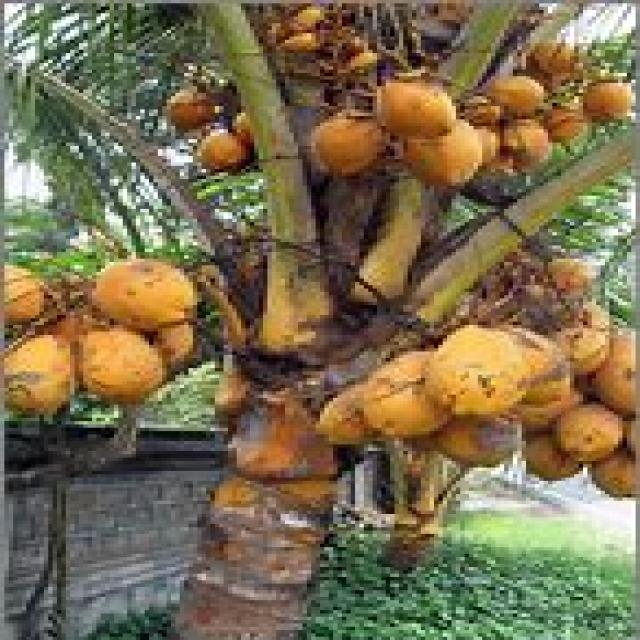coconuts: (359, 304, 640, 496), (314, 59, 628, 183), (0, 250, 195, 420)
